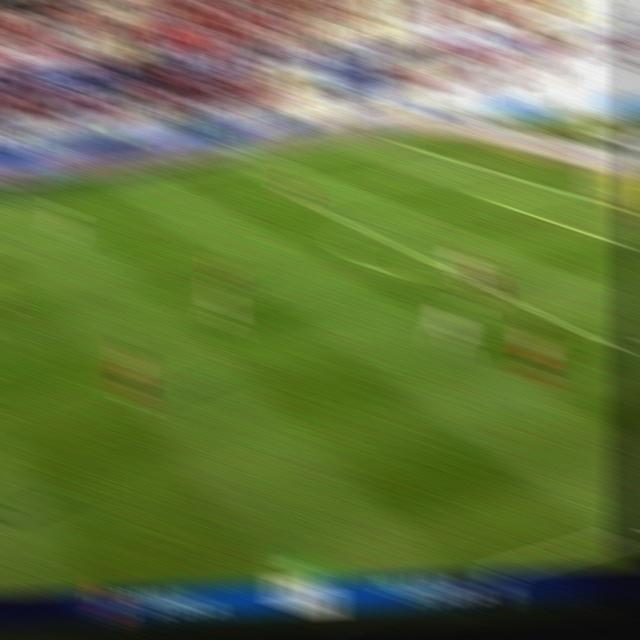bigarea_bottom_inner: (601, 330, 636, 361)
bigarea_top_inner: (280, 184, 307, 203)
bigarea_top_outter: (457, 152, 486, 173)
corner: (380, 130, 411, 148)
smallarea_top_inner: (476, 188, 506, 207)
smallarea_top_outter: (535, 175, 565, 197)
top_arc_area_intersection: (346, 214, 376, 238)
